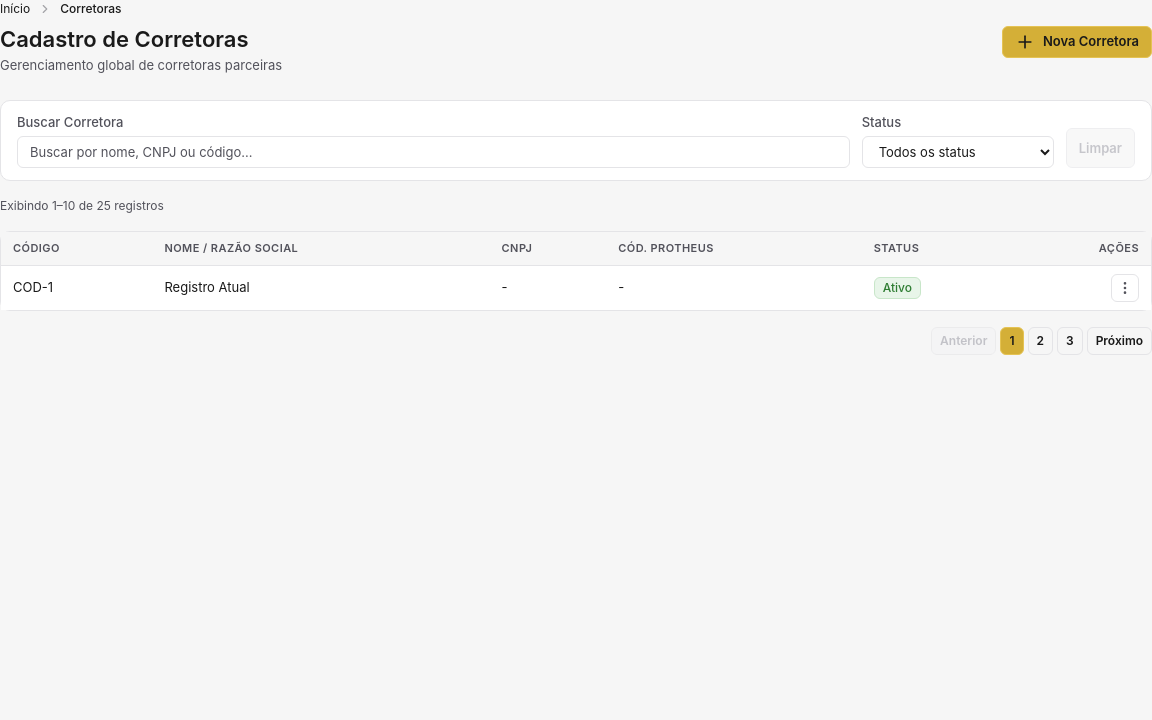
Test case: Consultas de corretoras › mantém falha da alteração de status separada da consulta e não recarrega ao falhar
Click the button named "Mais ações". click: (1125, 288)
box: [1111,274,1139,302]
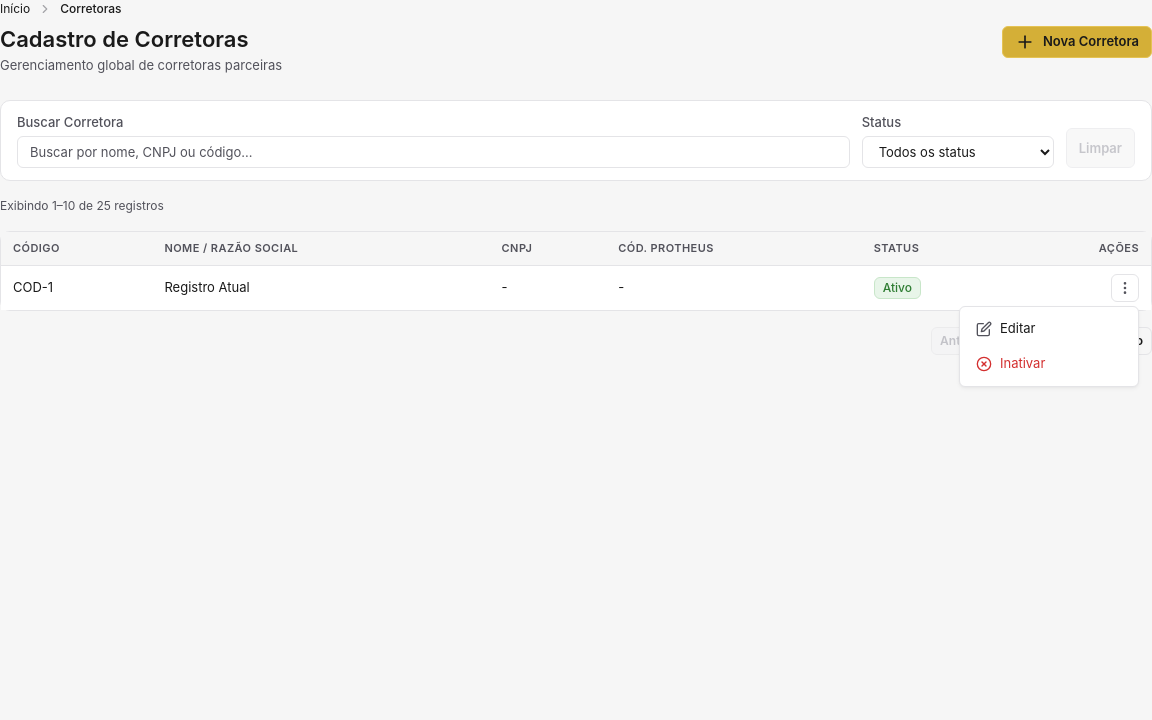
Click the menu item "Inativar". click: (1049, 364)
box: [960,346,1138,382]
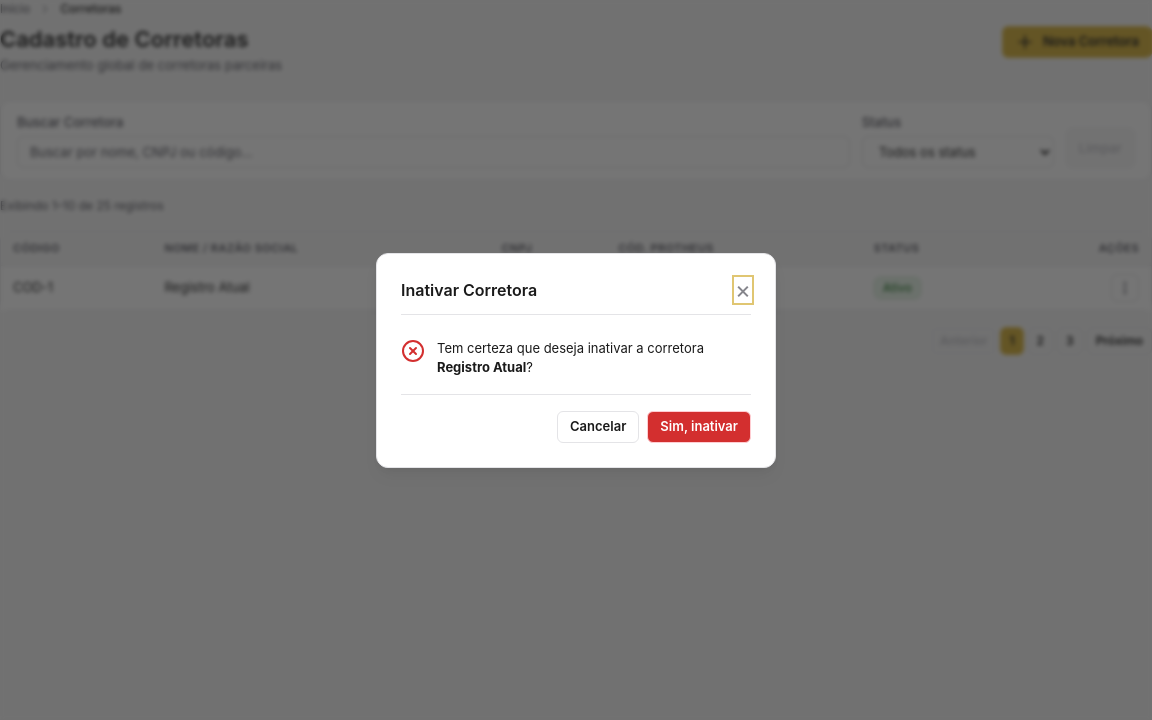
Click the button "Sim, inativar". click: (699, 426)
box: [647,410,751,442]
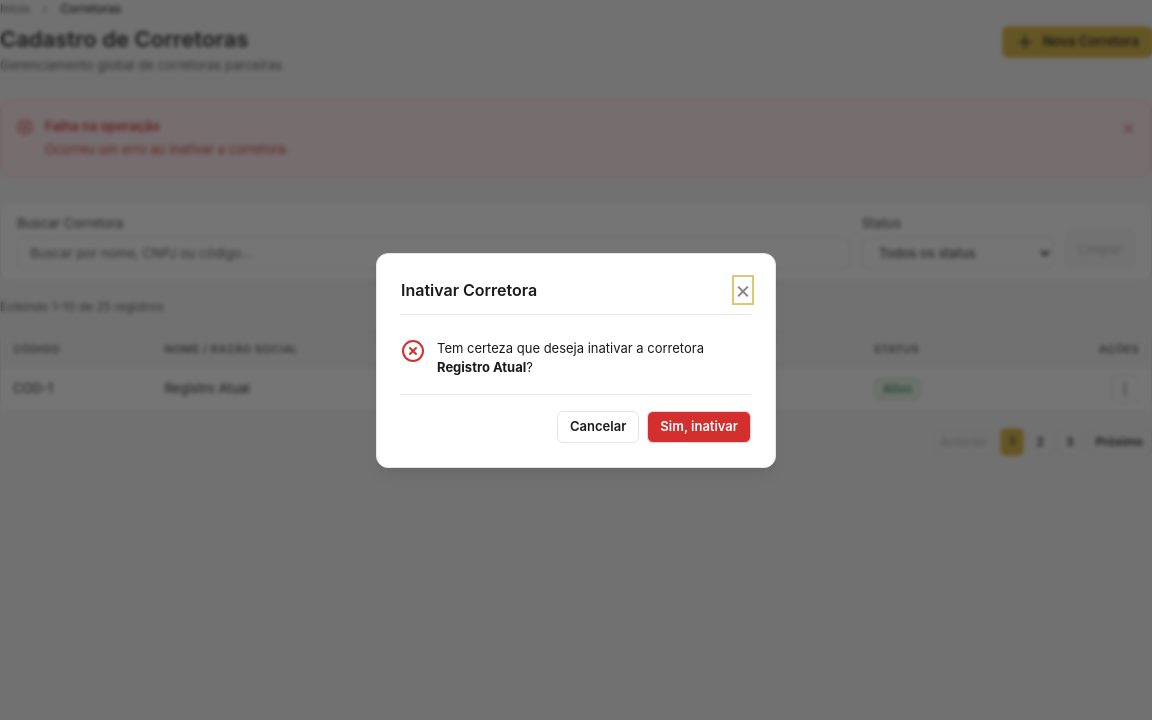
Check: the dialog is shown, box [376,252,776,468]
Check: the message shows "Falha na operação", box [45,118,160,134]
